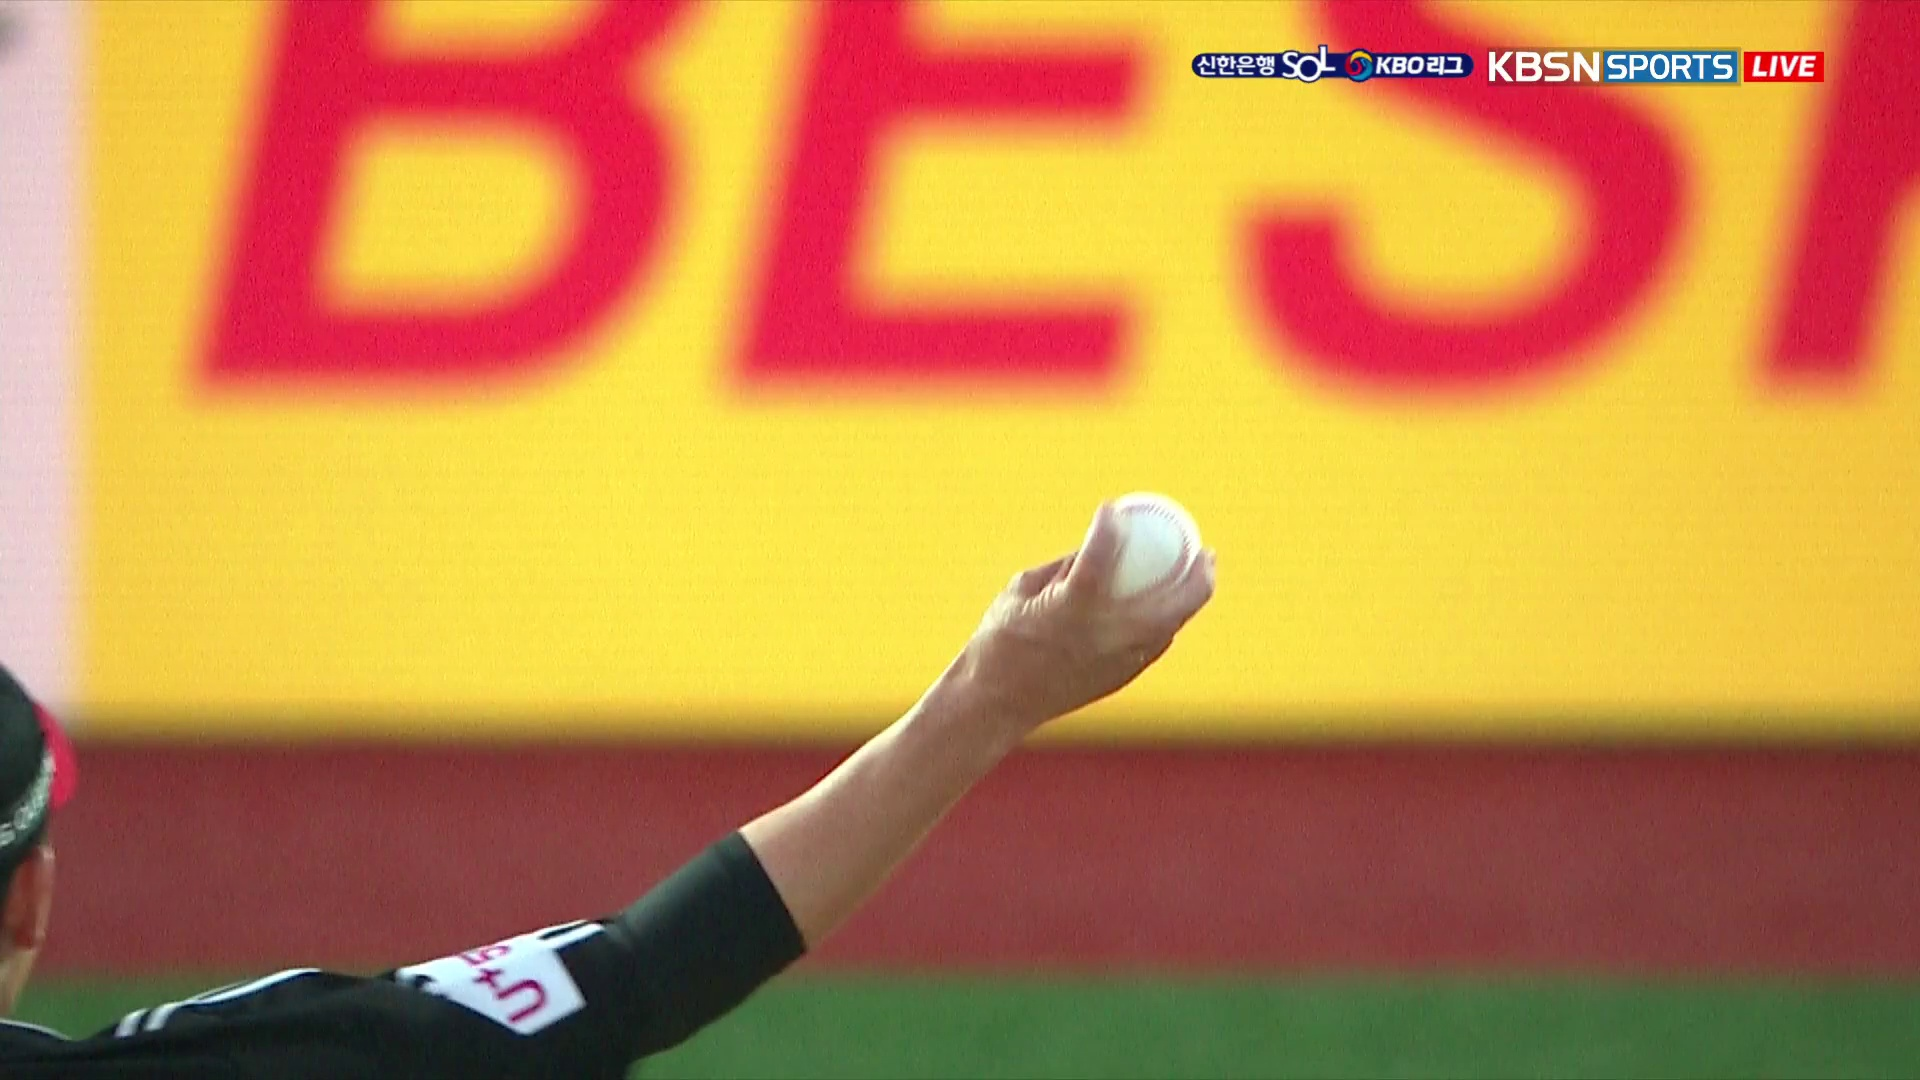zoomin_hand: (554, 484, 1224, 1054)
